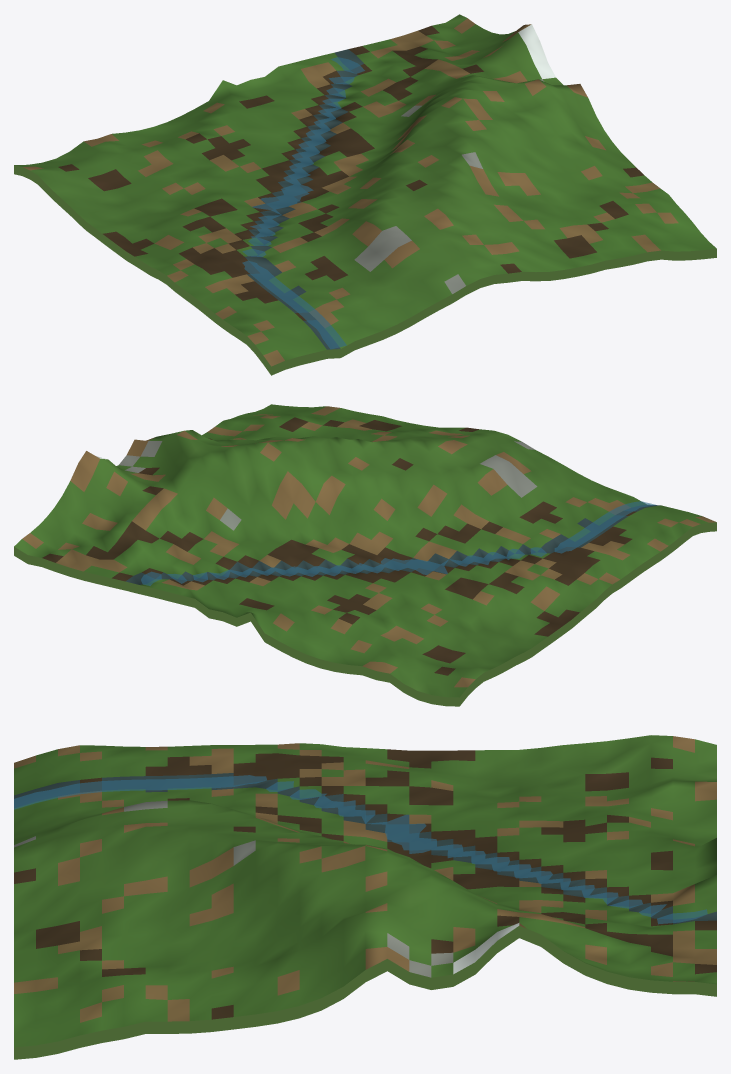
The model's file is chunk_2_2_lod1.glb.
The picture shows the model from 3 angles, top to bottom: view 1: azimuth 30°, elevation 25°; view 2: azimuth 150°, elevation 25°; view 3: azimuth 270°, elevation 25°; orthographic projection. The views are drawn at different scales.
Visible parts, largest first — view 1: Surface_Grass, Surface_Dirt, Surface_Mud, Skirt, Surface_Water, Water, Surface_Gravel, Surface_Snow; view 2: Surface_Grass, Surface_Dirt, Surface_Mud, Skirt, Surface_Water, Water, Surface_Gravel; view 3: Surface_Grass, Surface_Dirt, Surface_Mud, Skirt, Surface_Water, Water, Surface_Gravel, Surface_Snow.
Boxes of the visible parts, box(x1,y1,x2,y2) form: Surface_Grass: box(14, 14, 716, 360); Surface_Dirt: box(23, 18, 678, 366); Surface_Mud: box(58, 25, 643, 320); Skirt: box(14, 165, 716, 375); Surface_Water: box(245, 49, 363, 349); Water: box(242, 57, 364, 349); Surface_Gravel: box(354, 79, 544, 293); Surface_Snow: box(518, 24, 555, 79); Surface_Grass: box(14, 404, 708, 697); Surface_Dirt: box(22, 406, 716, 687); Surface_Mud: box(42, 417, 636, 675); Skirt: box(14, 522, 716, 706); Surface_Water: box(125, 505, 660, 584); Water: box(141, 501, 656, 585); Surface_Gravel: box(119, 441, 537, 530); Surface_Grass: box(14, 735, 716, 1047); Surface_Dirt: box(14, 736, 716, 1022); Surface_Mud: box(14, 749, 716, 1019); Skirt: box(14, 925, 716, 1059); Surface_Water: box(14, 773, 716, 924); Water: box(14, 775, 707, 924); Surface_Gravel: box(14, 800, 453, 977); Surface_Snow: box(453, 923, 519, 974).
Size of the model in its own units: 256 by 58.93 by 256.
